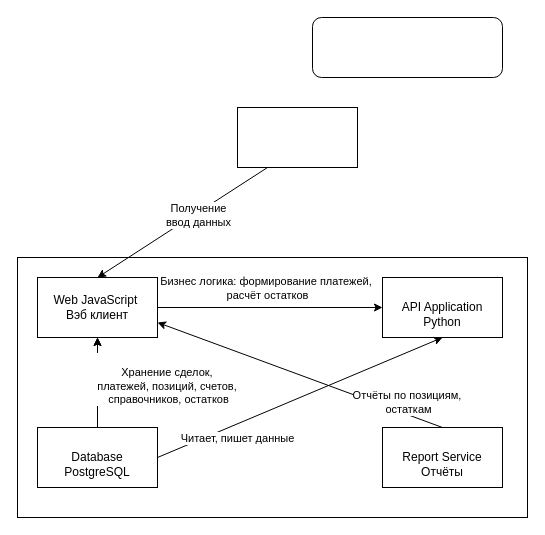
Some shapes in this 545 by 535 pixel diagram are drawn without their labels. Each missing label, with the centre of its shape:
"АИС «НОСТРО»" belongs at [297,137].
"Уровень 2 - Контейнеры" belongs at [407,47].
